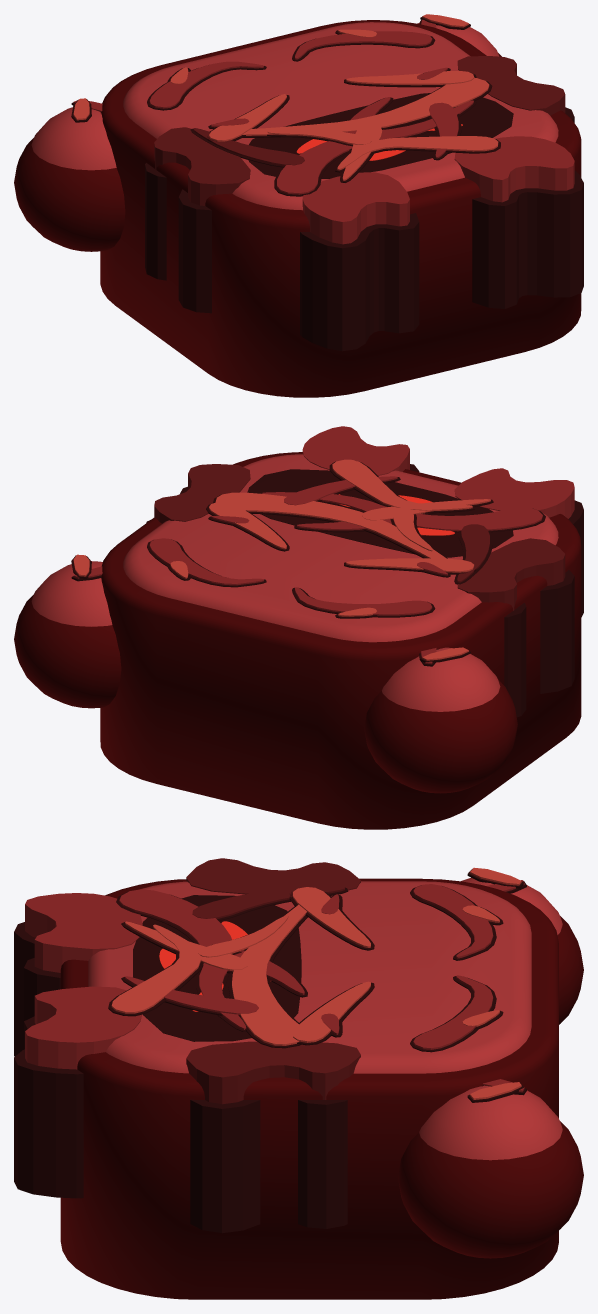
File: body_raizes_carmesim.fbx
The picture shows the model from 3 angles, top to bottom: view 1: azimuth 30°, elevation 25°; view 2: azimuth 150°, elevation 25°; view 3: azimuth 270°, elevation 25°; orthographic projection. The views are drawn at different scales.
Parts seen in each view (by area): view 1: body_raizes_carmesim_corpo, body_raizes_carmesim_mao_esq, body_raizes_carmesim_mao; view 2: body_raizes_carmesim_corpo, body_raizes_carmesim_mao_esq, body_raizes_carmesim_mao; view 3: body_raizes_carmesim_corpo, body_raizes_carmesim_mao, body_raizes_carmesim_mao_esq.
Part boxes in pixels (<box>): body_raizes_carmesim_corpo: <box>100,20,583,397</box>; body_raizes_carmesim_mao_esq: <box>14,98,125,251</box>; body_raizes_carmesim_mao: <box>417,14,501,56</box>; body_raizes_carmesim_corpo: <box>100,426,583,829</box>; body_raizes_carmesim_mao_esq: <box>364,647,517,793</box>; body_raizes_carmesim_mao: <box>14,554,121,708</box>; body_raizes_carmesim_corpo: <box>14,858,558,1299</box>; body_raizes_carmesim_mao: <box>398,1079,583,1258</box>; body_raizes_carmesim_mao_esq: <box>461,867,583,1024</box>.
Size of the model in its own units: 5.4 by 2.04 by 4.58.
1 material, 1 textured.
